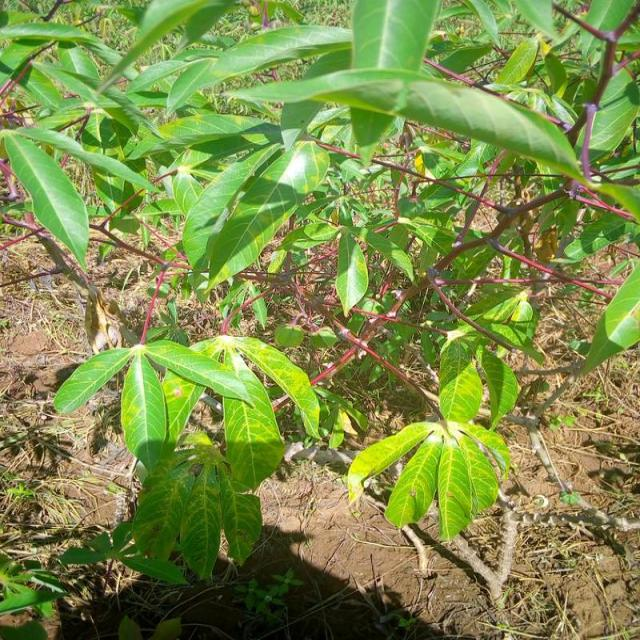cassava leaf: (180, 136, 330, 296), (0, 127, 90, 272)
